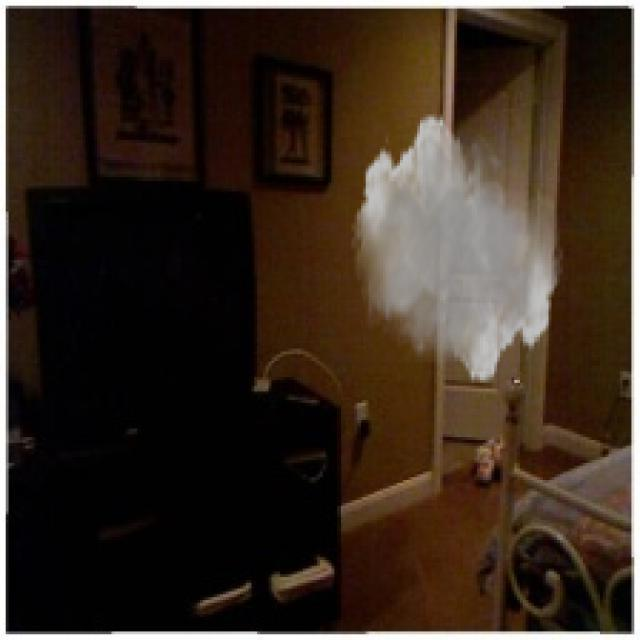Smoke: (351, 111, 563, 386)
